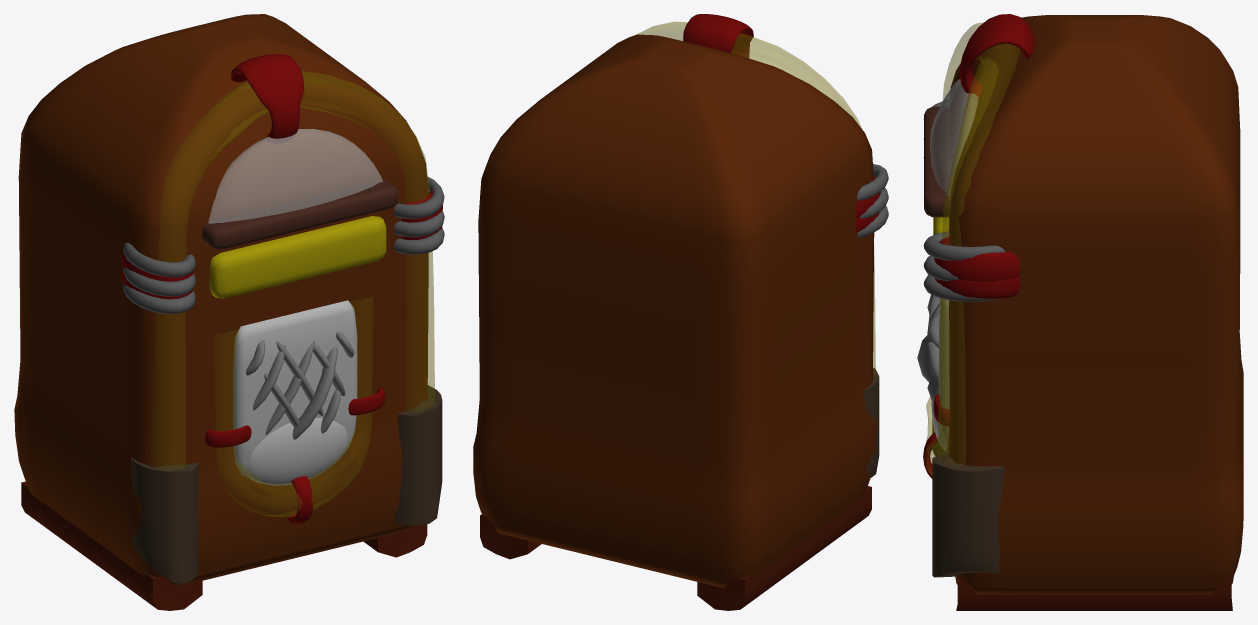
Rendered from JukeBox_Smooth.fbx.
3 renders of one model, left to right at view 1: azimuth 30°, elevation 25°; view 2: azimuth 150°, elevation 25°; view 3: azimuth 270°, elevation 25°, orthographic. The views are drawn at different scales.
Parts seen in each view (by area): view 1: pCube1, pTorus1, pCube5, pSphere1, pTorus13, pCube6, pCylinder2, pCube4, pCylinder1, pTorus23, pSphere2, pCube3 (+11 smaller); view 2: pCube1, pCube3, pTorus1, pTorus12, pCube2, pCylinder2, pTorus2; view 3: pCube1, pTorus1, pCylinder1, pCube2, pSphere1, pCube4, pTorus12, pTorus8, pTorus23, pTorus11, pCube5, pTorus9 (+2 smaller).
Part boxes in pixels (<box>): pCube1: <box>14,14,428,586</box>; pTorus1: <box>151,71,434,470</box>; pCube5: <box>233,300,357,476</box>; pSphere1: <box>208,129,382,223</box>; pTorus13: <box>214,296,373,516</box>; pCube6: <box>209,216,386,298</box>; pCylinder2: <box>131,457,198,583</box>; pCube4: <box>202,180,397,248</box>; pCylinder1: <box>394,385,442,525</box>; pTorus23: <box>246,331,354,439</box>; pSphere2: <box>244,418,349,485</box>; pCube3: <box>21,481,202,610</box>; pCube1: <box>473,34,876,587</box>; pCube3: <box>697,486,871,610</box>; pTorus1: <box>636,21,875,377</box>; pTorus12: <box>683,14,753,58</box>; pCube2: <box>480,514,541,559</box>; pCylinder2: <box>863,368,879,477</box>; pTorus2: <box>857,164,888,200</box>; pCube1: <box>947,15,1243,594</box>; pTorus1: <box>938,22,1019,465</box>; pCylinder1: <box>932,449,1004,577</box>; pCube2: <box>956,577,1232,610</box>; pSphere1: <box>930,79,978,195</box>; pCube4: <box>924,106,950,217</box>; pTorus12: <box>959,14,1034,100</box>; pTorus8: <box>934,237,1020,281</box>; pTorus23: <box>917,274,939,401</box>; pTorus11: <box>934,276,1020,298</box>; pCube5: <box>939,298,949,446</box>; pTorus9: <box>923,231,1004,260</box>.
Bounding box in the file's own units: 3.64 × 5.7 × 3.19.
